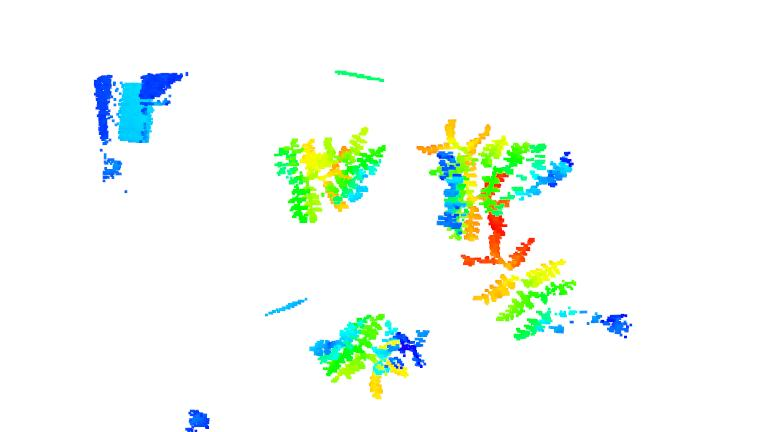chickpea: (455, 229, 629, 340), (412, 114, 578, 195), (273, 127, 387, 228), (410, 153, 513, 242), (305, 313, 408, 402), (379, 321, 431, 374)
